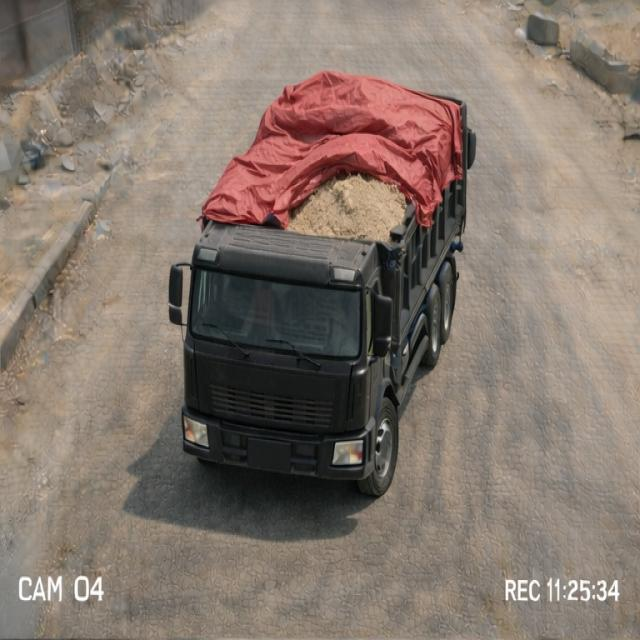Box: (192, 72, 482, 240)
Truck: (164, 56, 520, 496)
